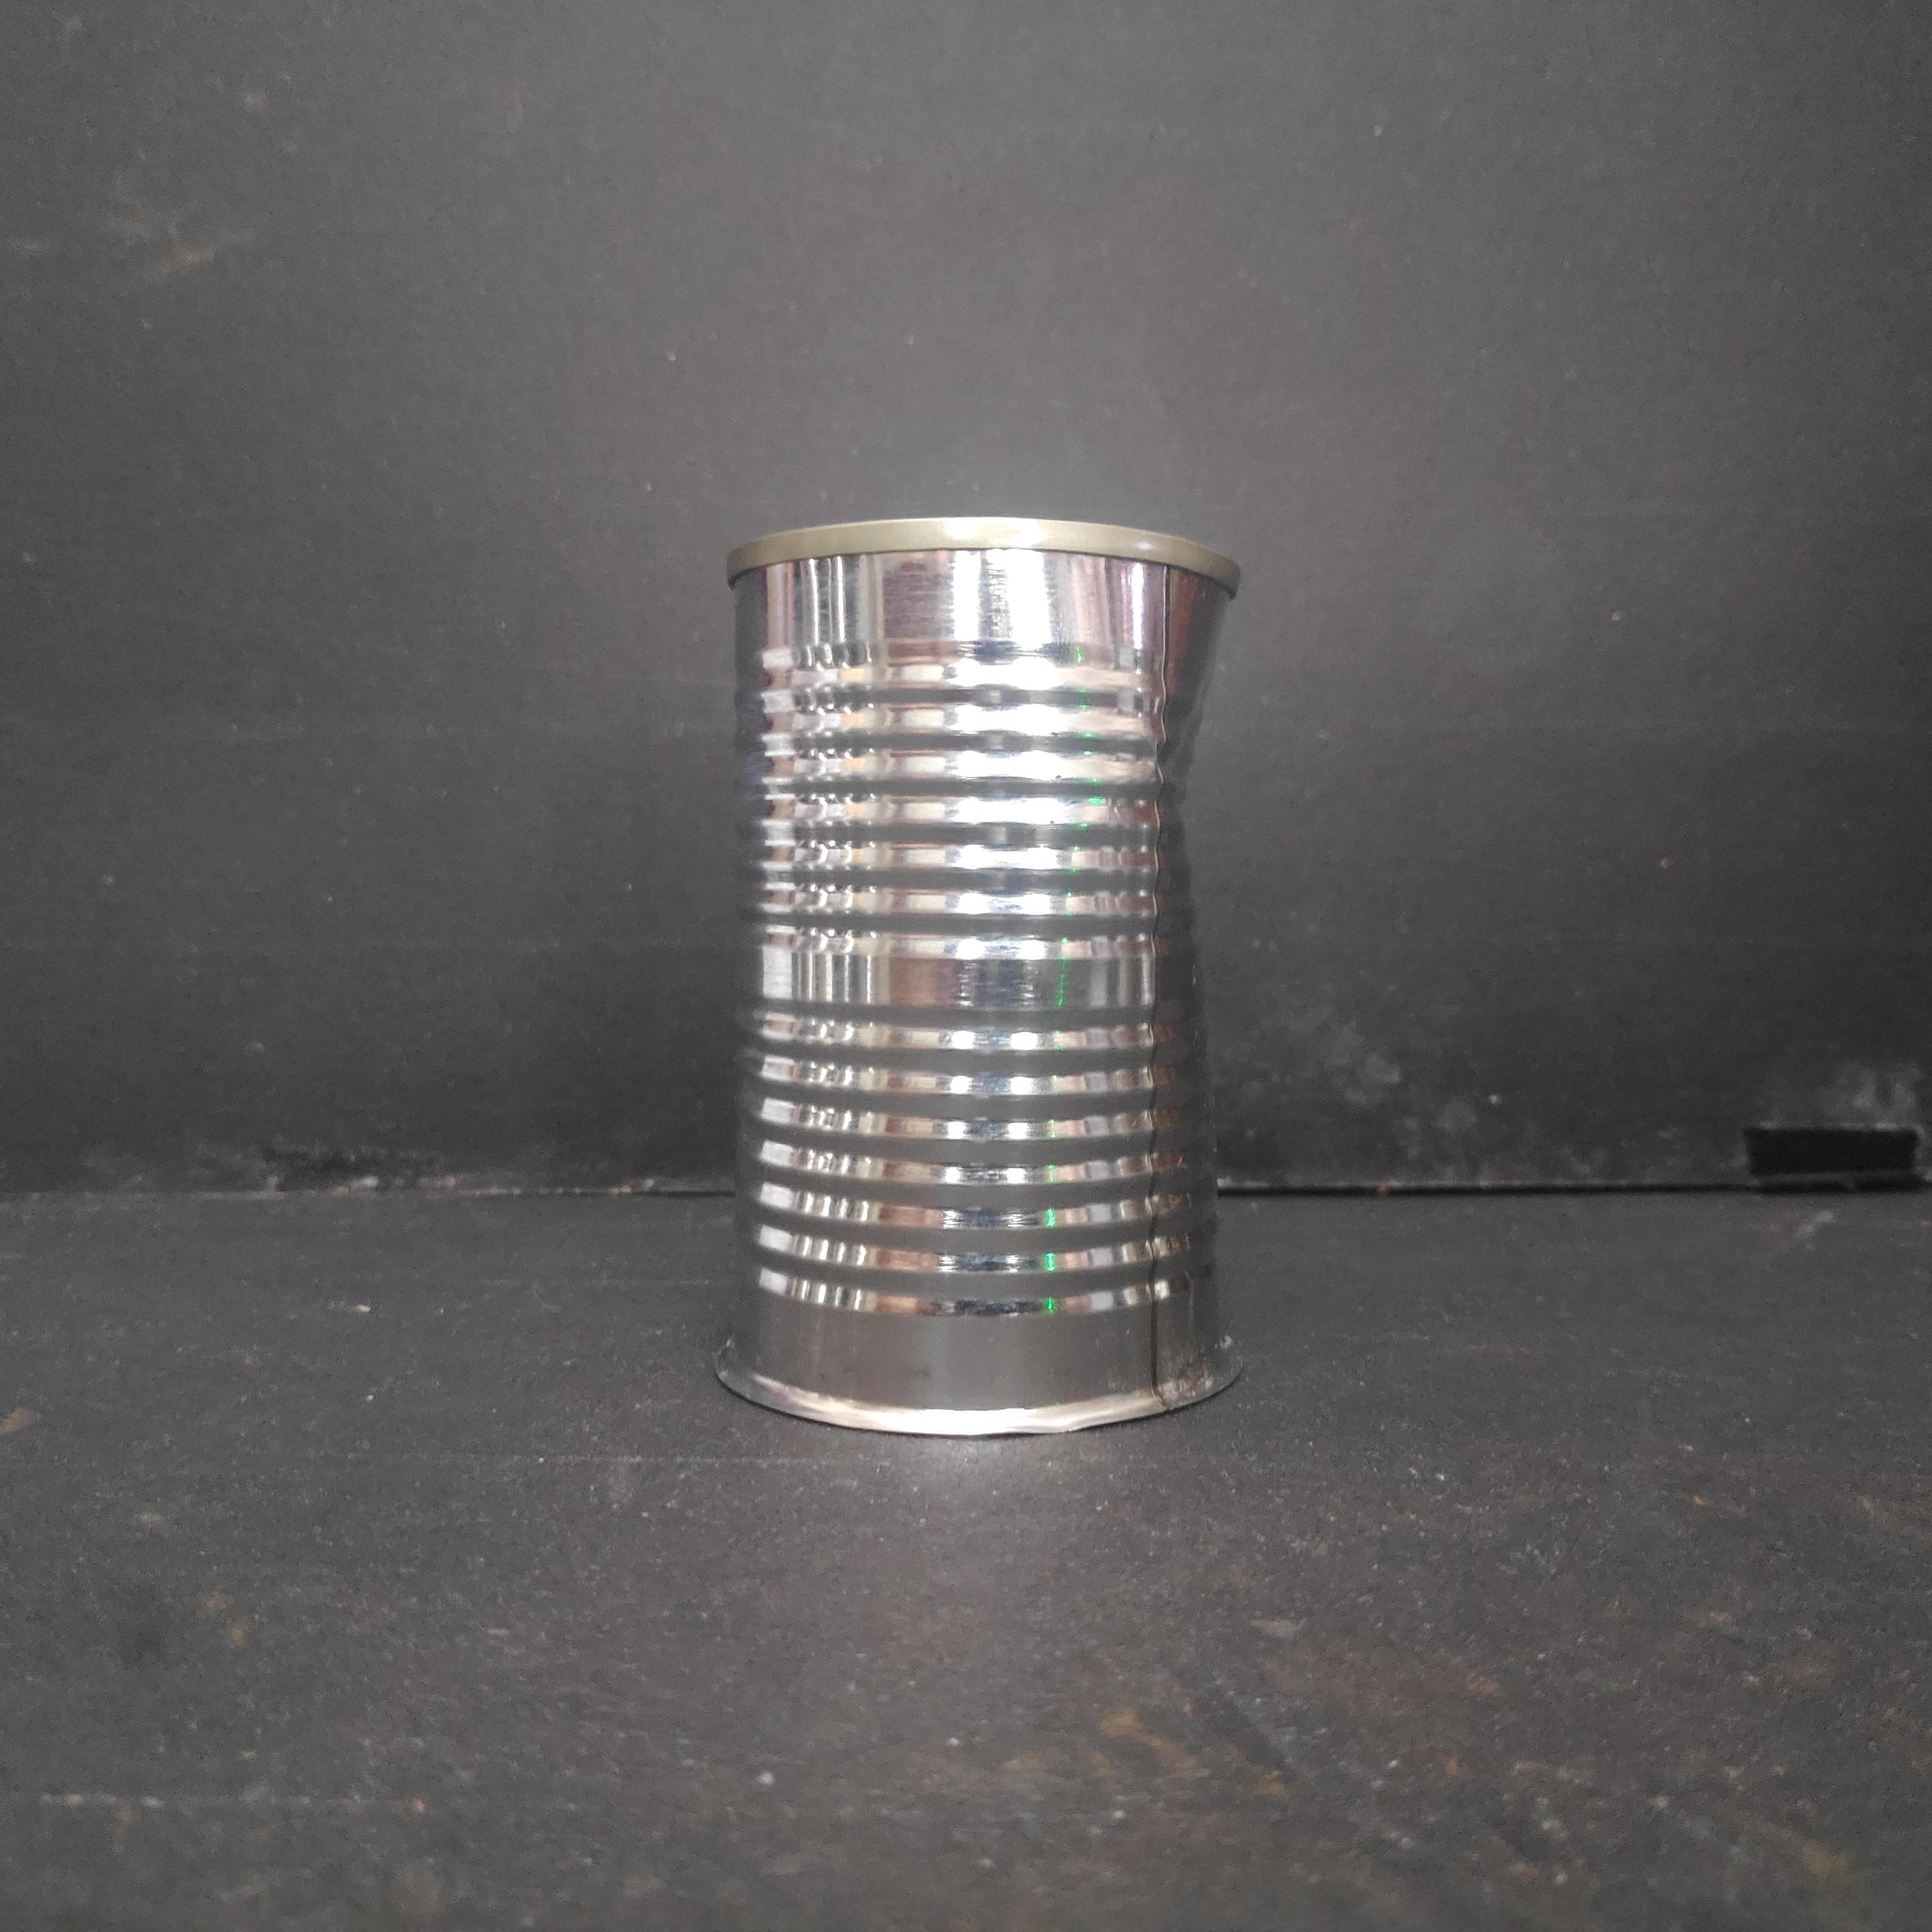Minor Defect: (717, 508, 1261, 1456)
